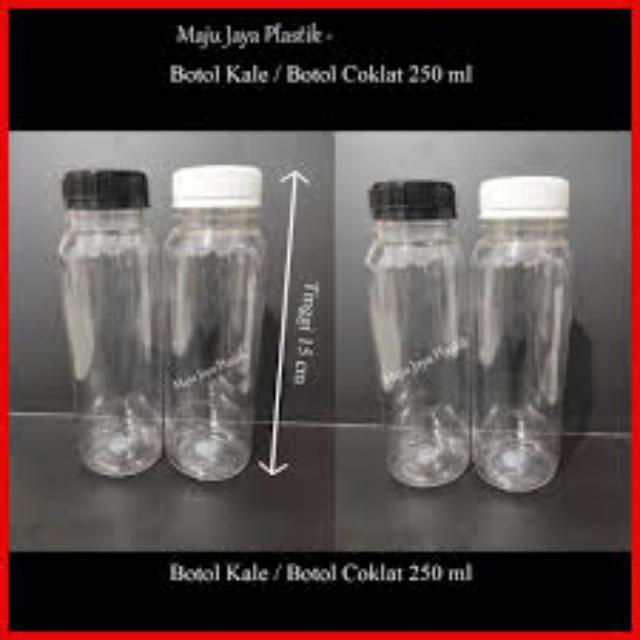trash: (350, 174, 476, 496), (57, 163, 169, 485), (162, 162, 268, 486), (470, 170, 572, 502)
